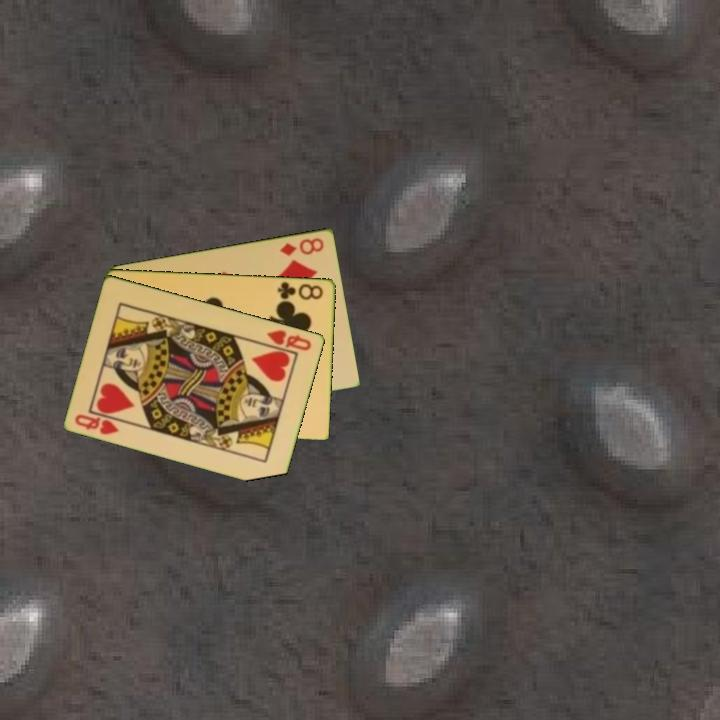8c: (274, 278, 326, 303)
8d: (277, 234, 327, 258)
Qh: (264, 326, 315, 353), (72, 410, 122, 437)
